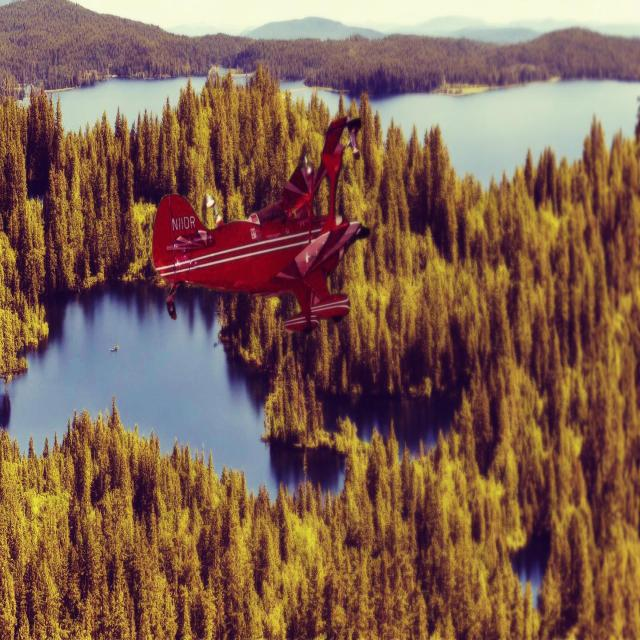airplane: (152, 114, 370, 333)
